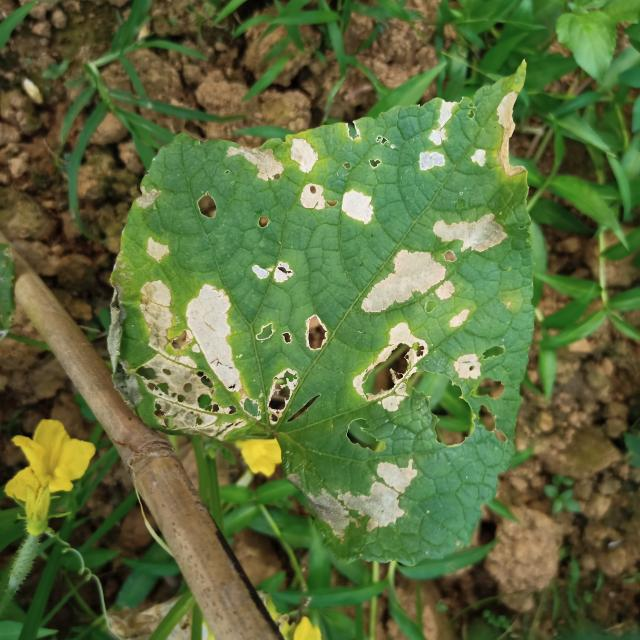disease_cucumber: (226, 88, 576, 331), (95, 176, 330, 452), (323, 309, 509, 568)
